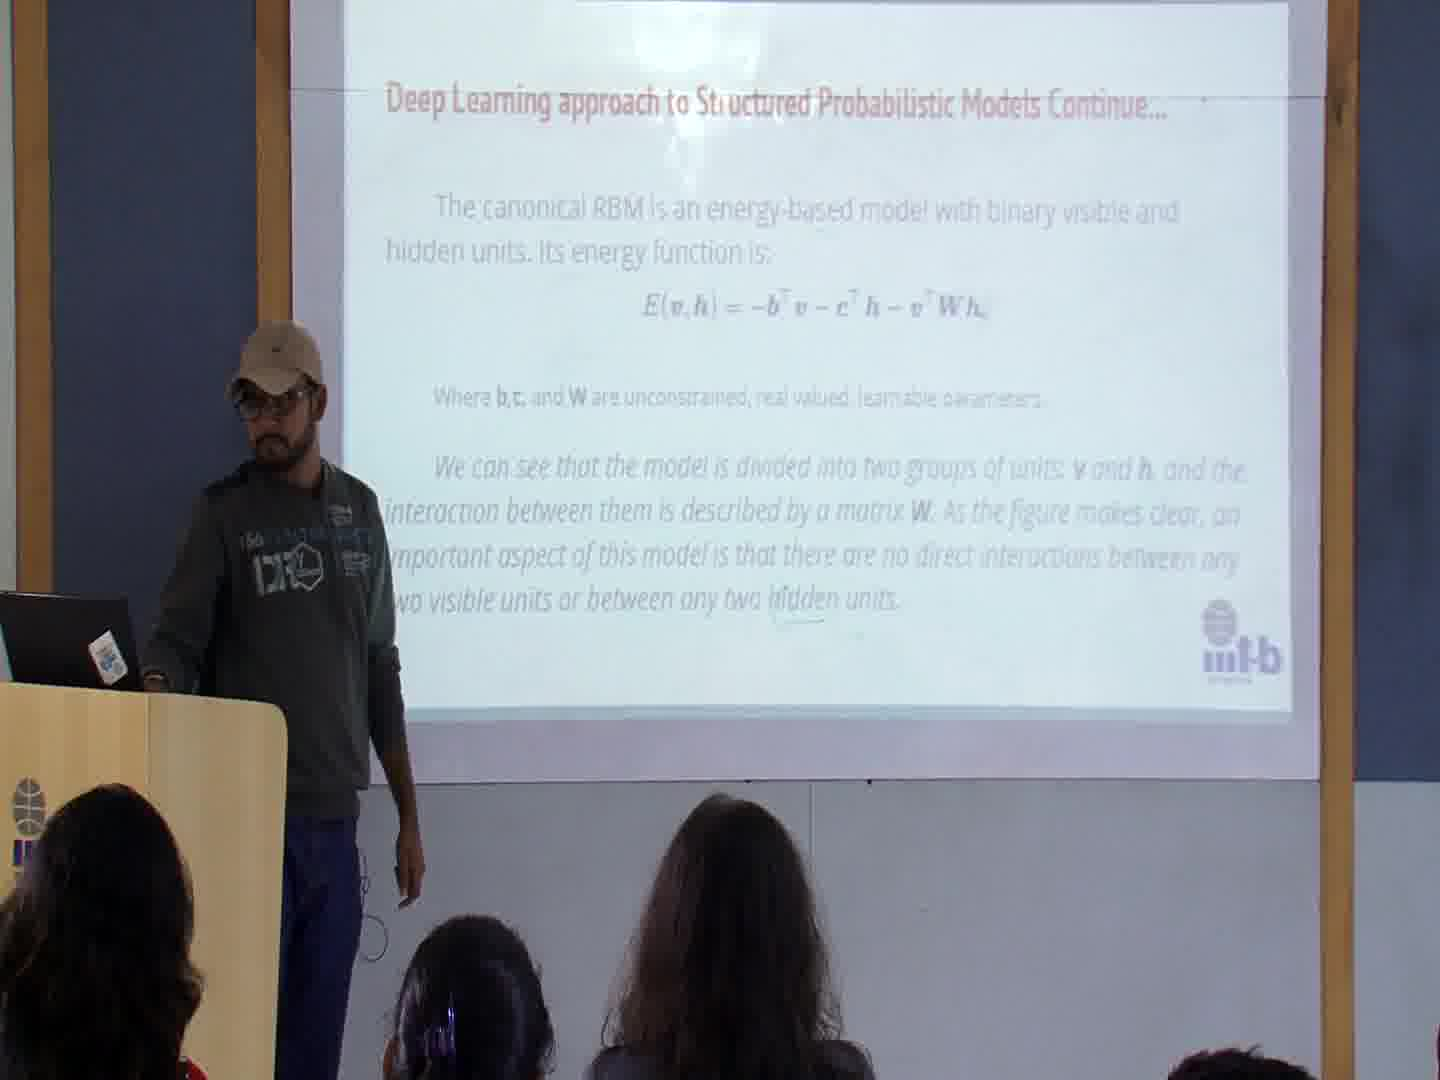slide: (344, 2, 1293, 723)
